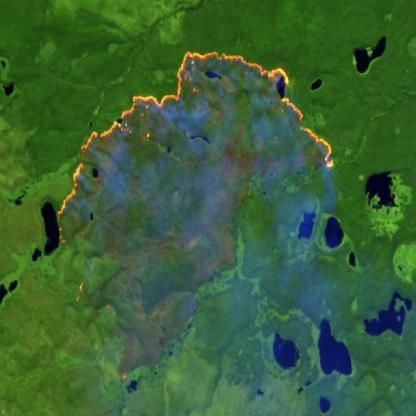fire: (49, 52, 336, 252)
